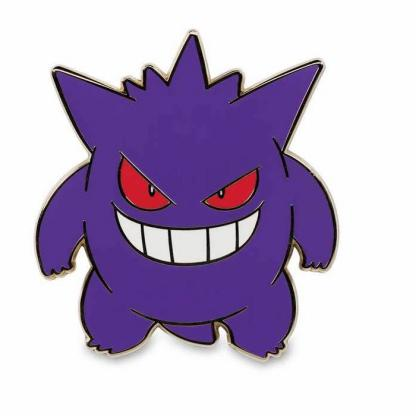Gengar: (22, 31, 344, 370)
